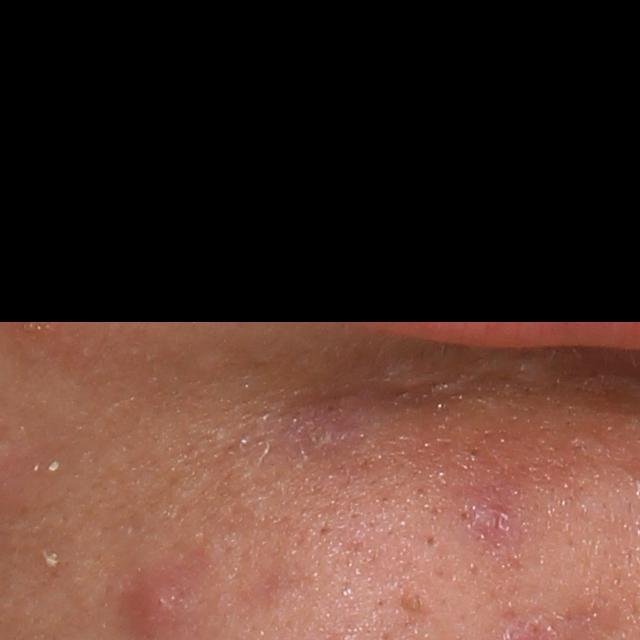comedo: (405, 593, 423, 612)
papule: (9, 291, 63, 347), (130, 575, 179, 635)
pustule: (42, 550, 59, 574)
